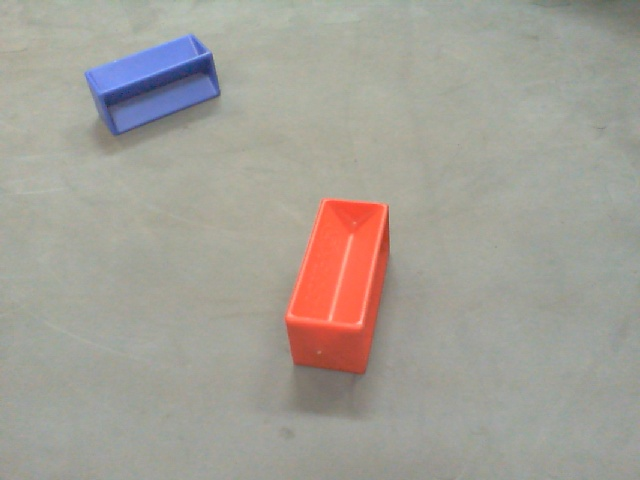BlueSample: (81, 30, 224, 142)
RedSample: (281, 195, 398, 381)
